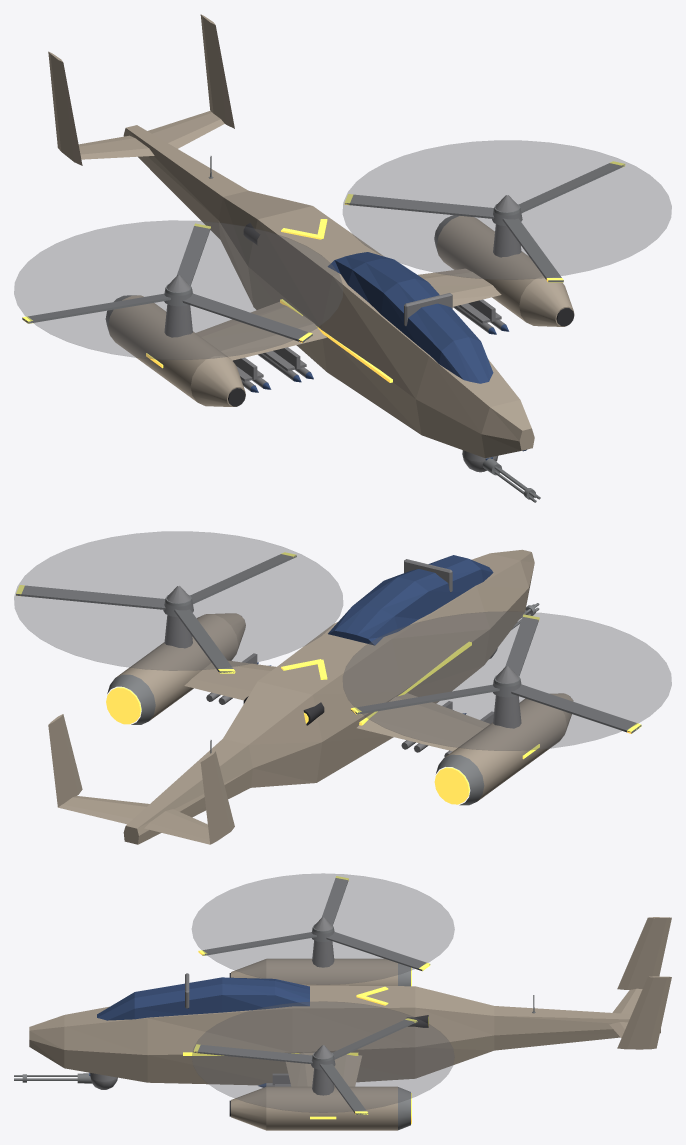
Rendered from gunship_red.glb.
3 views of the same model, one above another, from view 1: azimuth 30°, elevation 25°; view 2: azimuth 150°, elevation 25°; view 3: azimuth 270°, elevation 25° (orthographic). The views are drawn at different scales.
Parts seen in each view (by area): view 1: body, rotor_r, rotor_l; view 2: body, rotor_r, rotor_l; view 3: body, rotor_l, rotor_r, gun.
Part boxes in pixels (x1,y1,x2,y2): body: [48, 14, 574, 458]; rotor_r: [14, 220, 342, 359]; rotor_l: [343, 140, 671, 282]; body: [48, 549, 573, 844]; rotor_r: [343, 611, 671, 750]; rotor_l: [14, 531, 342, 673]; body: [29, 917, 671, 1130]; rotor_l: [192, 1001, 454, 1114]; rotor_r: [192, 873, 454, 984]; gun: [14, 1073, 91, 1083].
Bounding box in the file's own units: 12.9 × 3.56 × 15.
